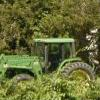Tractor: (6, 28, 89, 92)
